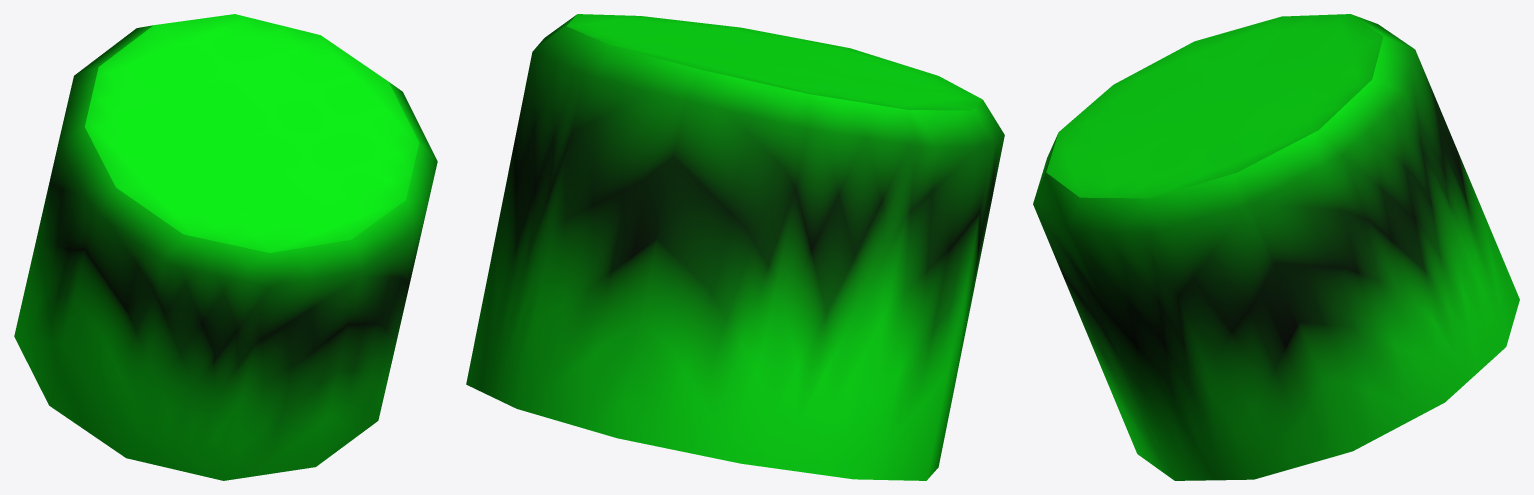
The model's file is led_right.obj.
3 renders of one model, left to right at view 1: azimuth 30°, elevation 25°; view 2: azimuth 150°, elevation 25°; view 3: azimuth 270°, elevation 25°, orthographic. The views are drawn at different scales.
Parts seen in each view (by area): view 1: led; view 2: led; view 3: led.
Part boxes in pixels (bbox=[...]): led: bbox=[14, 14, 437, 480]; led: bbox=[466, 14, 1004, 480]; led: bbox=[1033, 14, 1519, 480].
Size of the model in its own units: 0.00121 by 0.00127 by 0.00142.
1 material, 1 textured.
